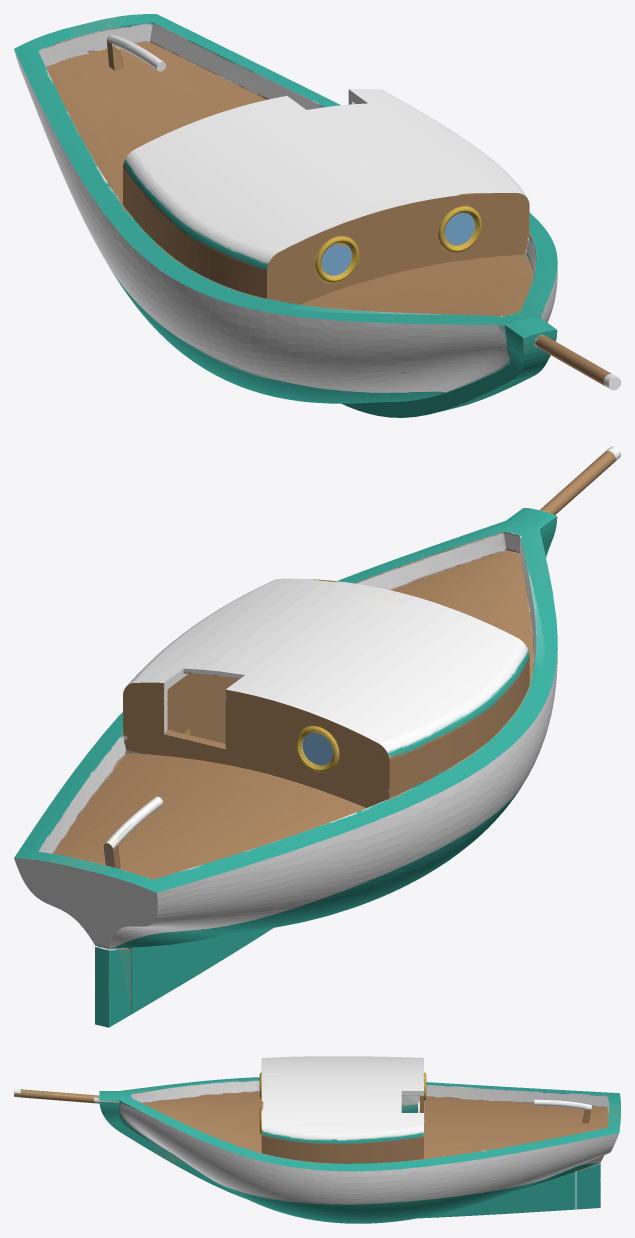
Rendered from boat_painted.glb.
The picture shows the model from 3 angles, top to bottom: view 1: azimuth 30°, elevation 25°; view 2: azimuth 150°, elevation 25°; view 3: azimuth 270°, elevation 25°; orthographic projection. The views are drawn at different scales.
Parts seen in each view (by area): view 1: boat.001; view 2: boat.001; view 3: boat.001.
Part boxes in pixels (x1,y1,x2,y2): boat.001: [14, 14, 620, 417]; boat.001: [14, 446, 620, 1027]; boat.001: [14, 1056, 620, 1223].
Size of the model in its own units: 110 by 72.7 by 299.
Materials: 1 (1 with a texture image).
